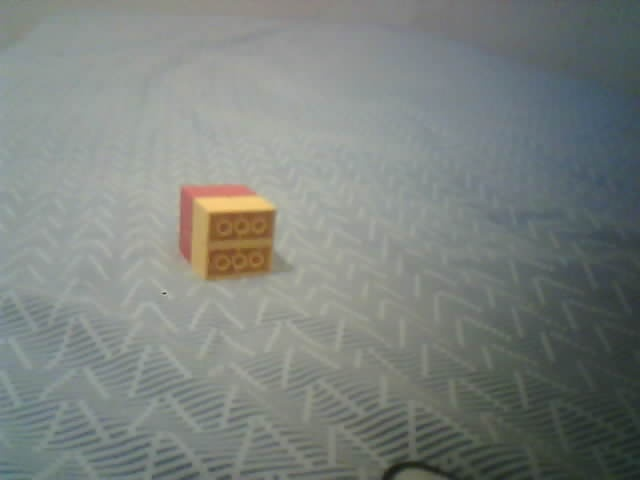lego: (177, 182, 280, 282)
